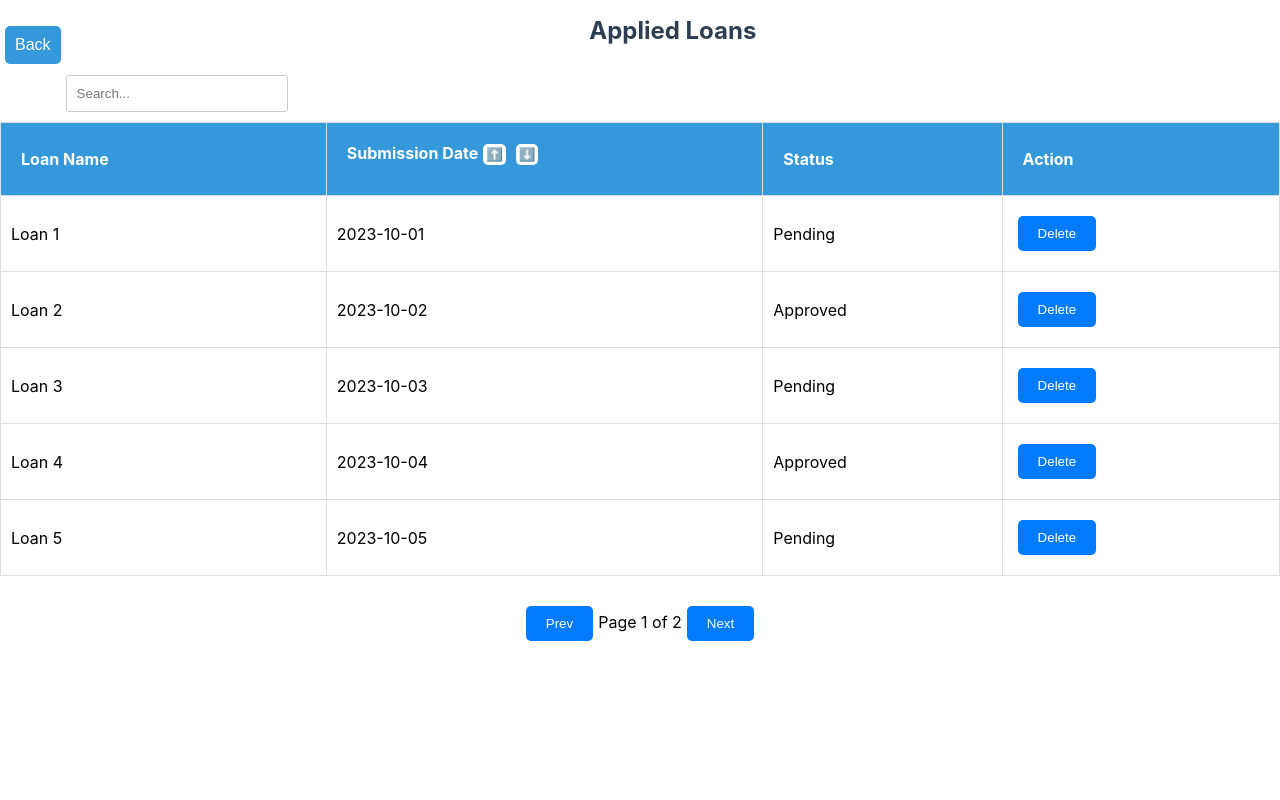
it: AppliedLoansPage Component › applied_loans_should_navigate_to_the_next_page_in_pagination
This screenshot has width=1280, height=800.
What coordinates should you click on to do the following:
click the button "Next"
I would click on:
 (720, 624)
Its box is top-left (687, 606), bottom-right (754, 641).
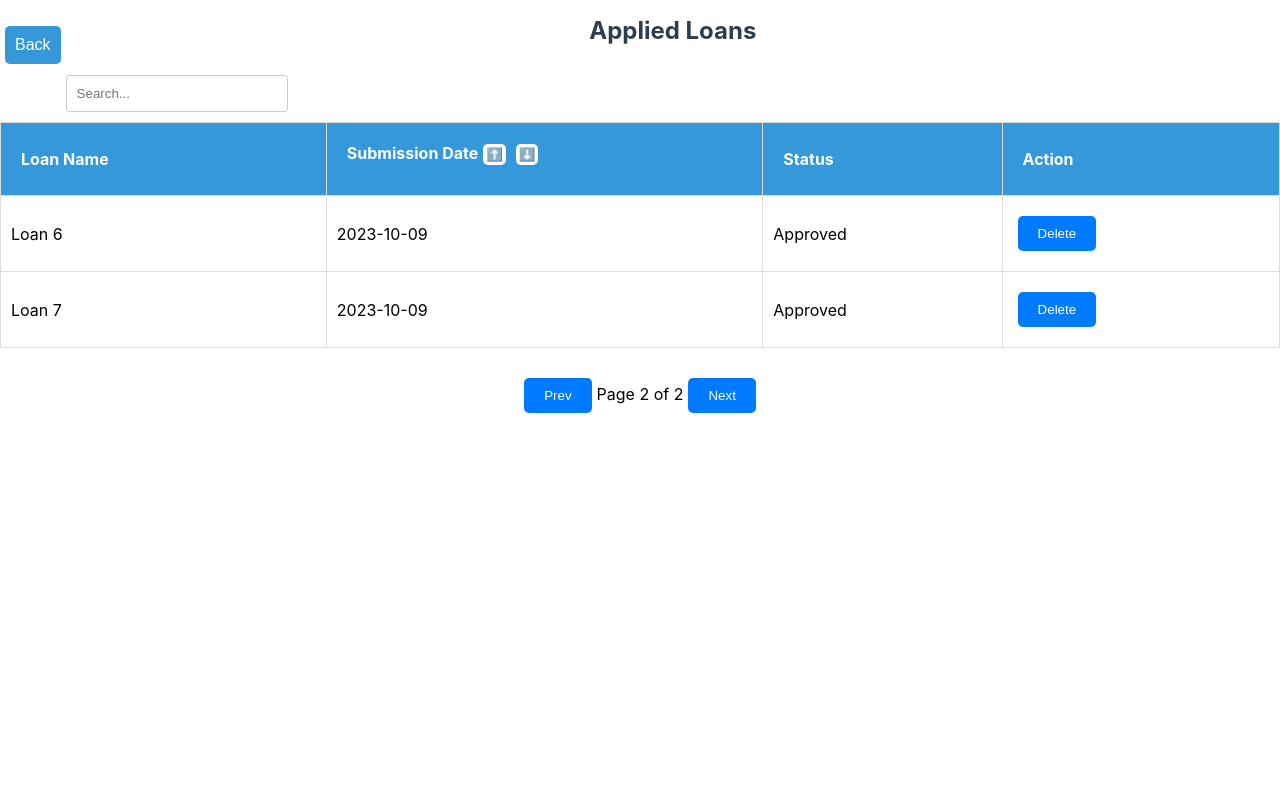
Now the text "Loan 6" is shown, box top-left (0, 196), bottom-right (326, 272)
